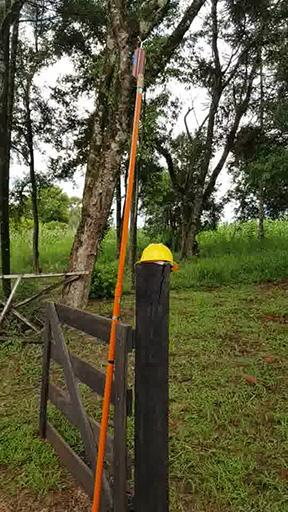Detector_Tensao_Contato: (129, 35, 149, 77)
Vara_Manobra: (92, 76, 145, 512)
